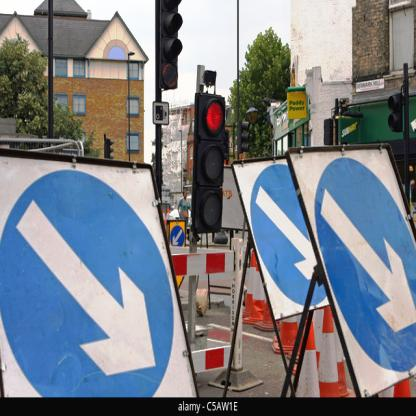Keep right: (0, 147, 175, 416), (315, 151, 416, 390), (239, 153, 326, 315)
